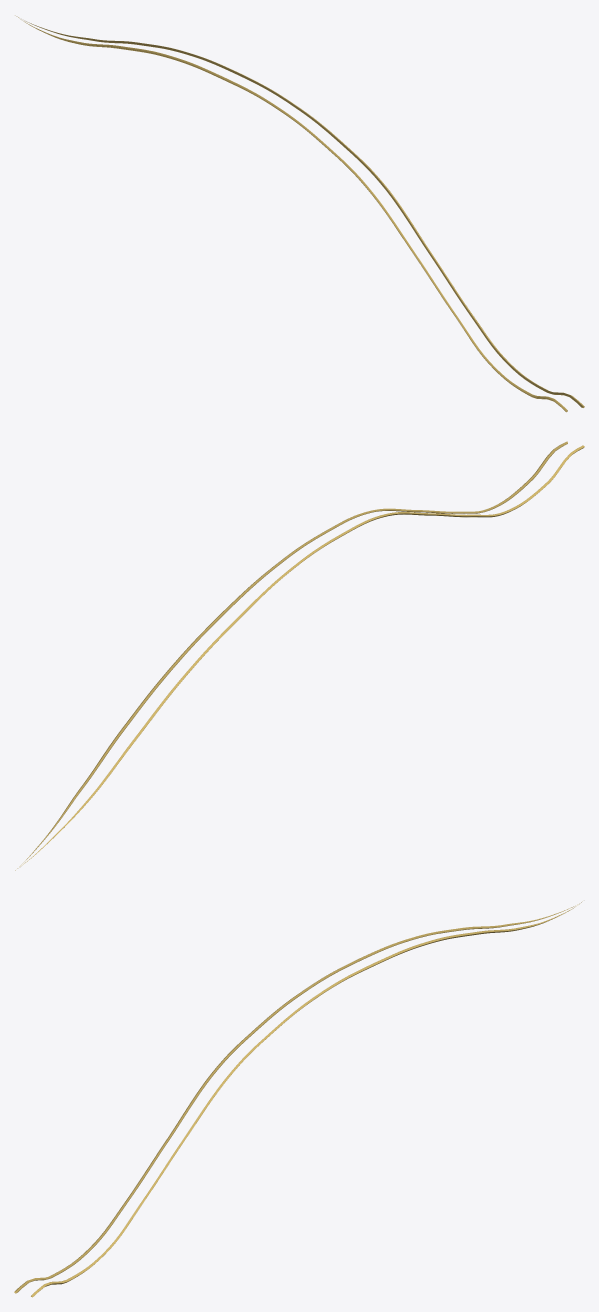
3 views of the same model, one above another, from view 1: azimuth 30°, elevation 25°; view 2: azimuth 150°, elevation 25°; view 3: azimuth 330°, elevation 25° (orthographic).
Visible parts, largest first — view 1: 后外侧束; view 2: 后外侧束; view 3: 后外侧束.
Boxes of the visible parts, x1=… form: 后外侧束: x1=15, y1=15, x2=584, y2=412; 后外侧束: x1=15, y1=441, x2=584, y2=870; 后外侧束: x1=14, y1=901, x2=582, y2=1297.
Size of the model in its own units: 0.0145 by 0.0771 by 0.7225.
